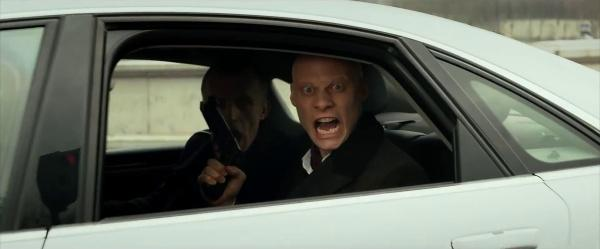Gun: (196, 101, 245, 197)
